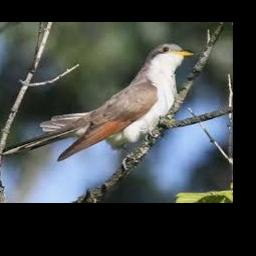Cuckoo: (1, 43, 196, 159)
